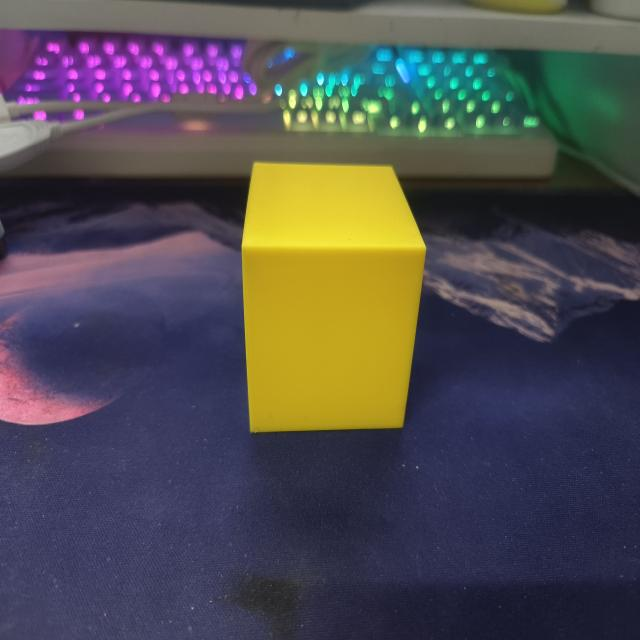yellow: (240, 161, 427, 436)
